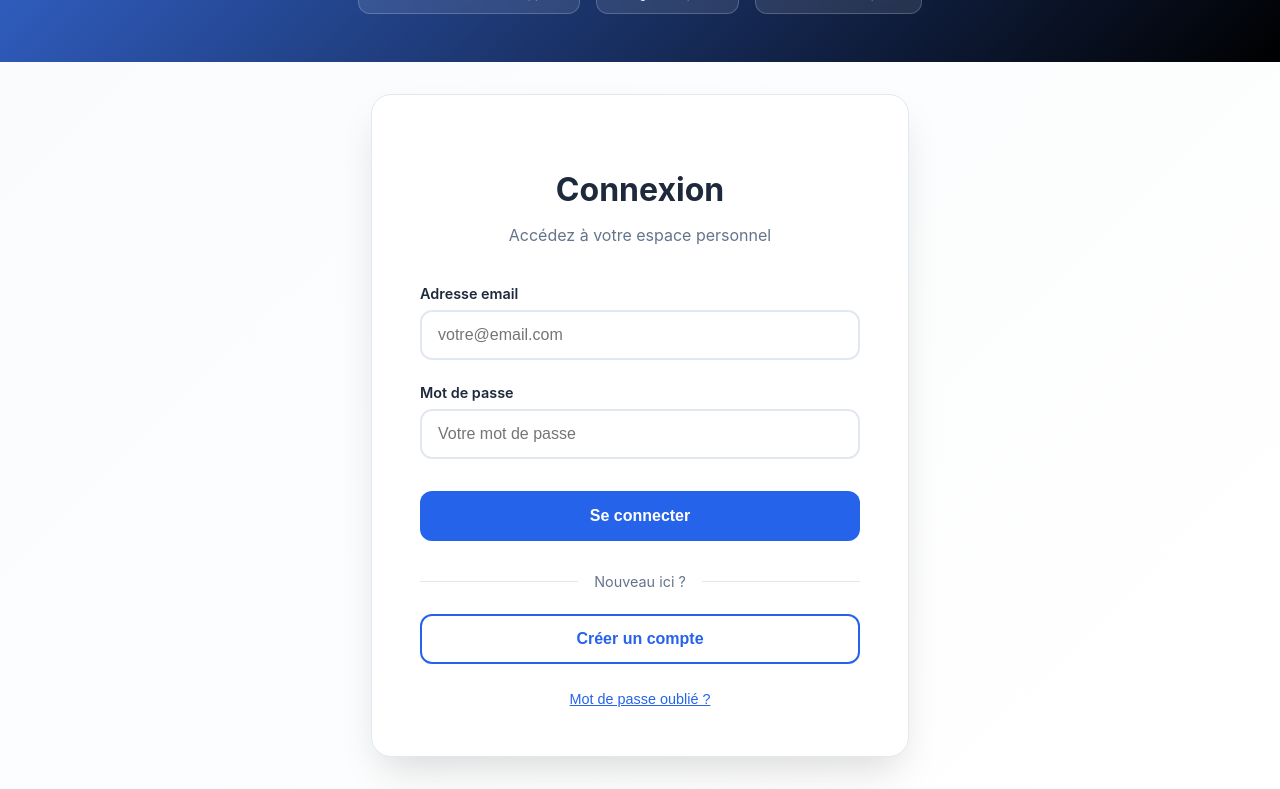
Login Component › Validation › email="" password="" → "Veuillez remplir tous les champs"
The image size is (1280, 789).
(page scrolled)
Click the button "Se connecter": (640, 516) [420,490,860,540]
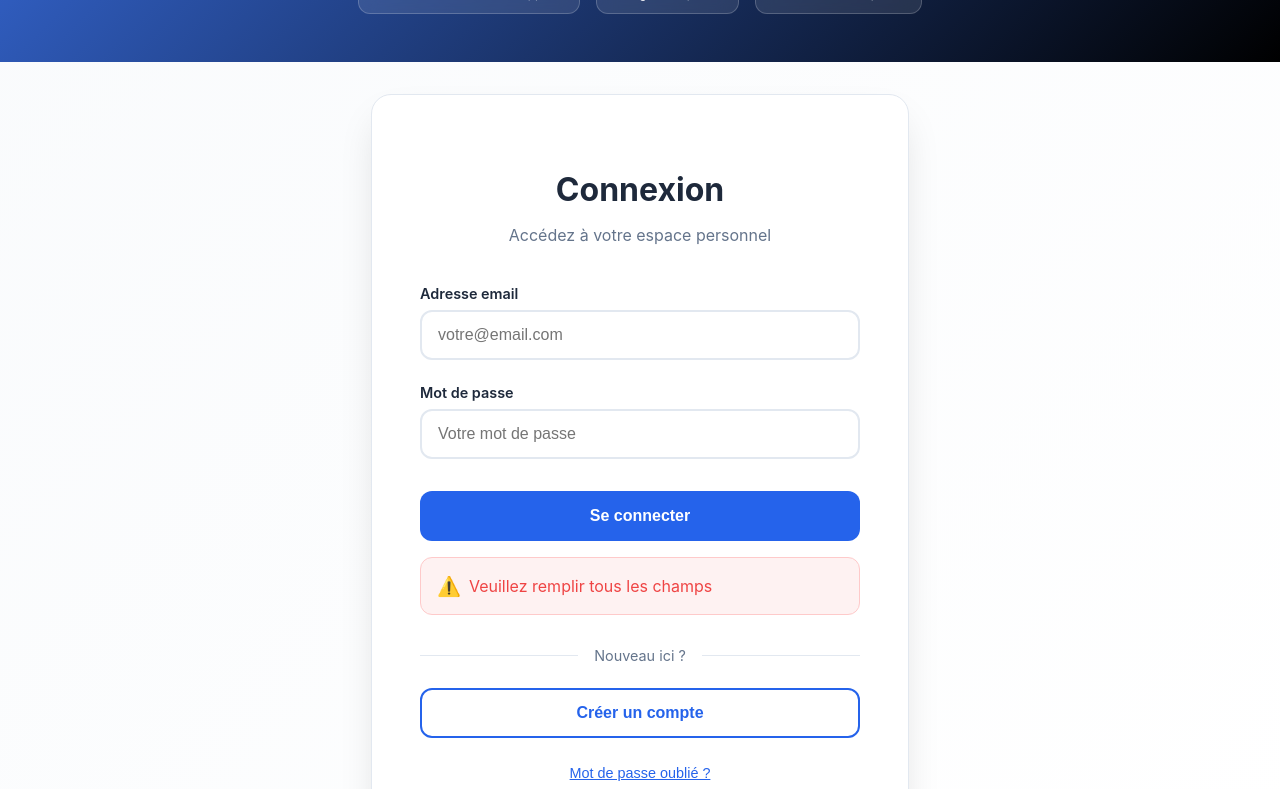
Expected: the text "Veuillez remplir tous les champs" is shown, [469,576,712,596]
